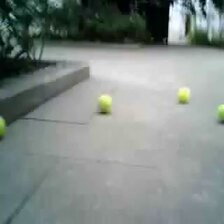tennis: (98, 95, 113, 111), (176, 88, 188, 103), (215, 102, 224, 122)
